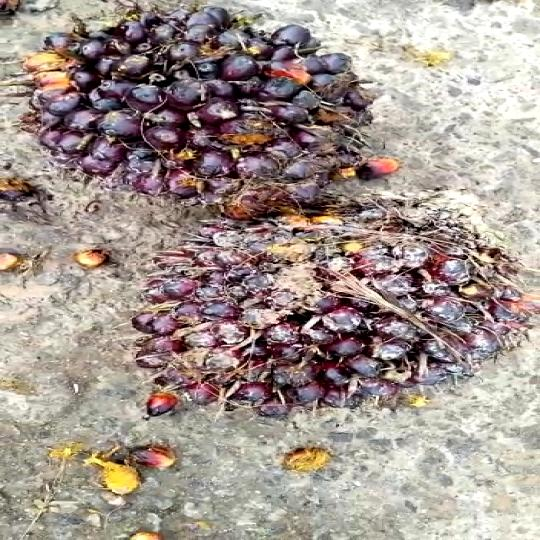kurang masak: (127, 186, 540, 447), (16, 2, 334, 229)
